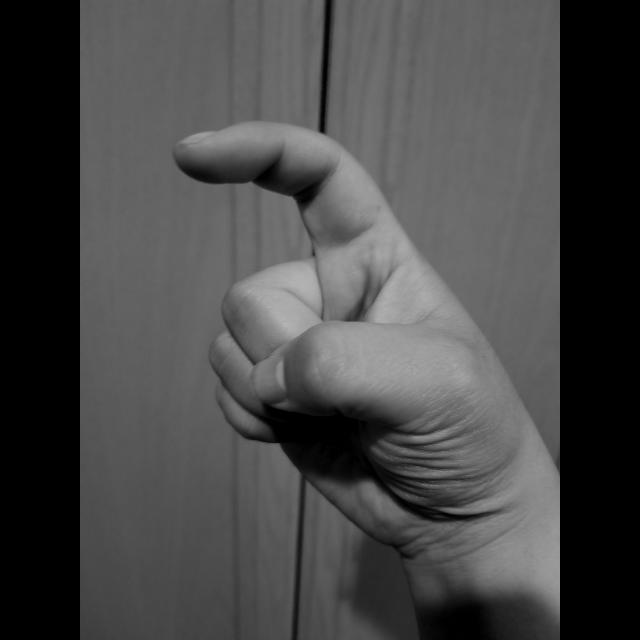X: (166, 114, 560, 556)
